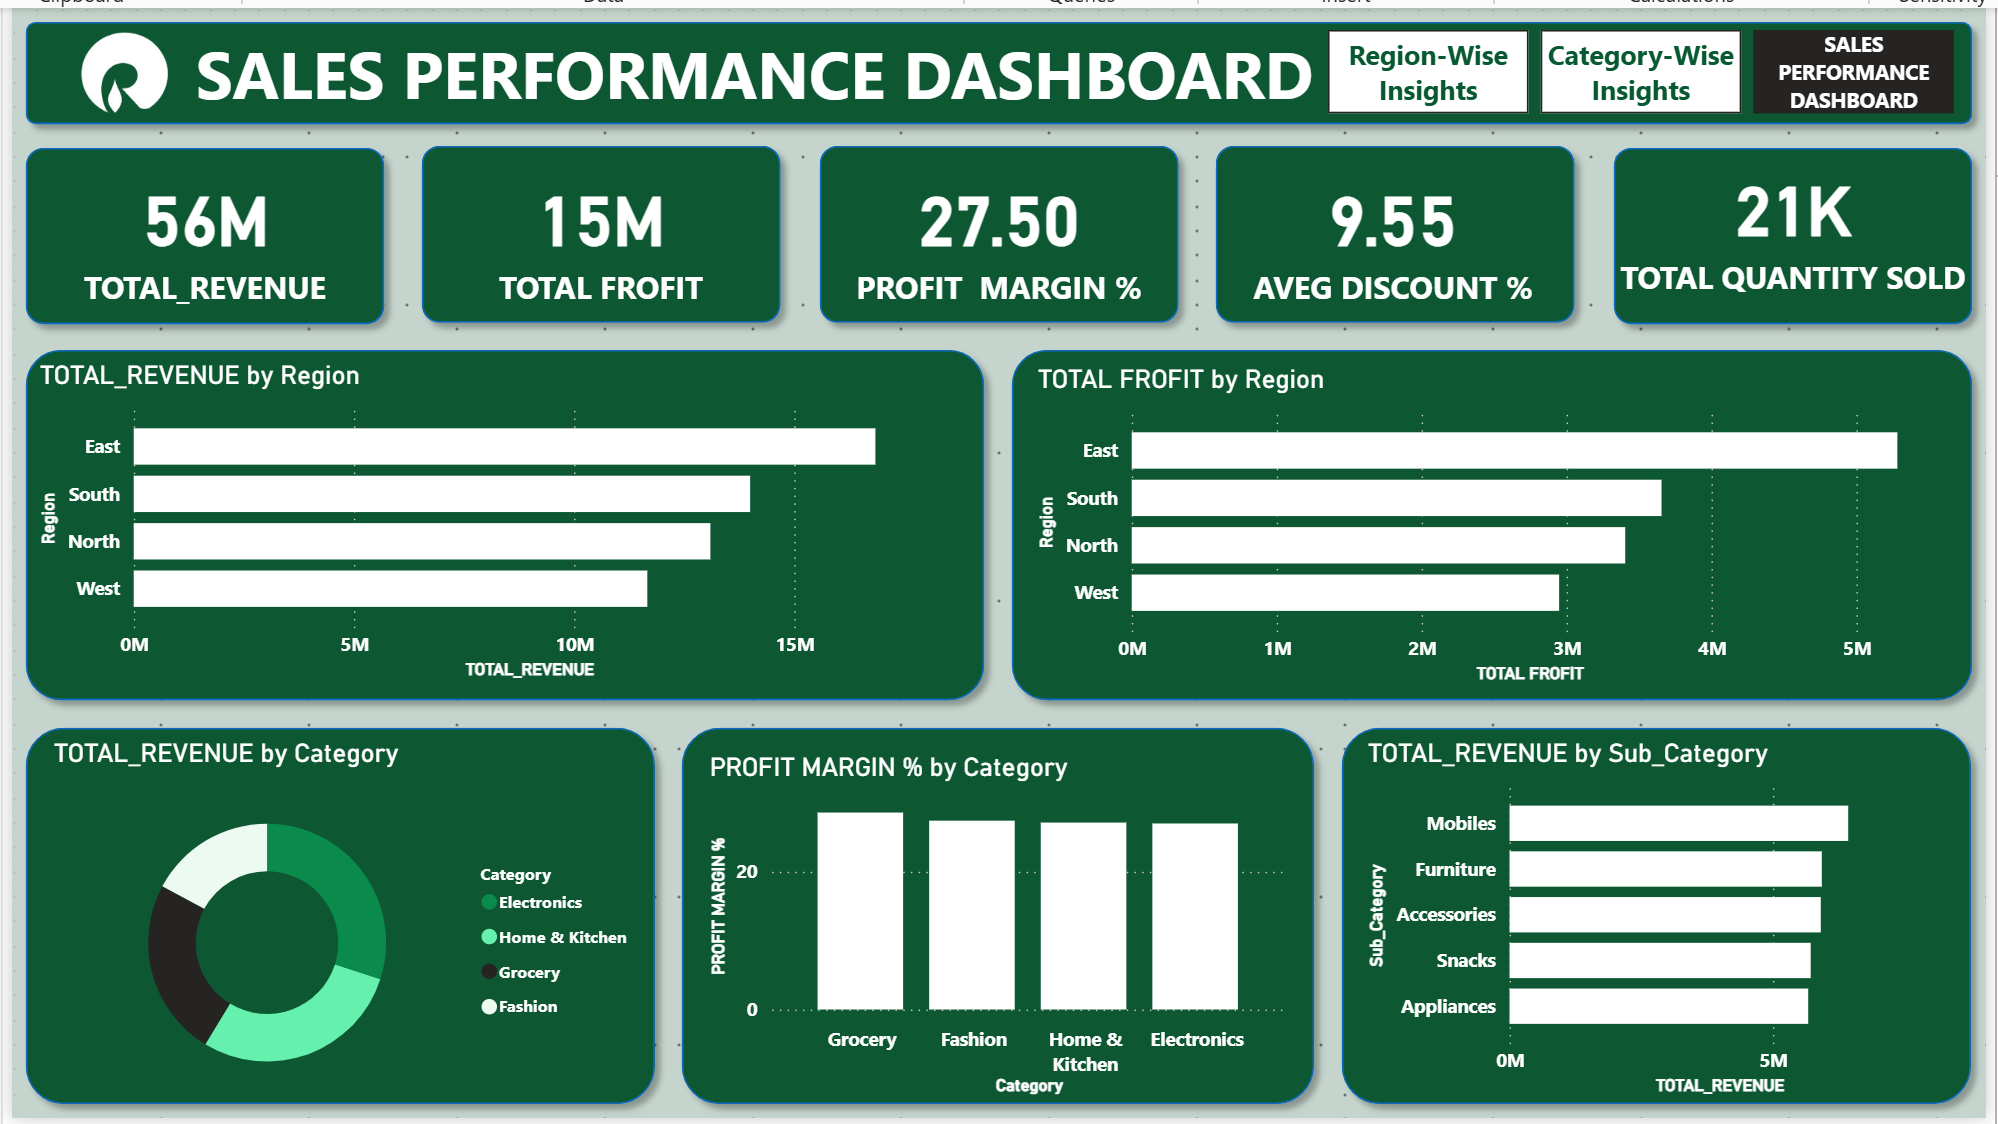

The dashboard page shown, as its layout file describes it:
{"tool":"powerbi","page":{"name":"SALES PERFORMANCE DASHBOARD ","canvas":[1280,720],"ordinal":2},"visuals":[{"type":"shape","box":[0,212.8,639.6,245.2],"z":0},{"type":"shape","box":[0,0,1280.4,84.3],"z":1000},{"type":"textbox","box":[114.2,7.8,739.5,76.5],"z":2000},{"type":"shape","box":[0,81.1,250.4,132.3],"z":3000},{"type":"shape","box":[256.3,81,250.5,132.6],"z":4000},{"type":"shape","box":[514.7,80.5,250.5,132.6],"z":5000},{"type":"shape","box":[771.6,80.5,250.5,132.6],"z":6000},{"type":"shape","box":[1030.1,81.1,250.4,132.3],"z":7000},{"type":"card","fields":{"Values":["Sales_Data.TOTAL_REVENUE"]},"box":[0,93.4,250.4,107.7],"z":8000},{"type":"card","fields":{"Values":["Sales_Data.TOTAL FROFIT"]},"box":[256.9,93.4,250.4,107.7],"z":9000},{"type":"card","fields":{"Values":["Sales_Data.PROFIT  MARGIN %"]},"box":[515,93.4,250.4,107.7],"z":10000},{"type":"card","fields":{"Values":["Sales_Data.AVEG DISCOUNT %"]},"box":[770.6,93.4,250.4,107.7],"z":11000},{"type":"card","fields":{"Values":["Sales_Data.TOTAL QUANTITY SOLD"]},"box":[1030.1,80.4,250.4,120.6],"z":12000},{"type":"shape","box":[639.6,212.8,640.9,245.2],"z":13000},{"type":"barChart","fields":{"Y":["Sales_Data.TOTAL_REVENUE"],"Category":["Sales_Data.Region"]},"box":[13,228.3,598.1,211.5],"z":14000},{"type":"barChart","fields":{"Category":["Sales_Data.Region"],"Y":["Sales_Data.TOTAL FROFIT"]},"box":[660.3,230.9,598.1,211.5],"z":15000},{"type":"shape","box":[0,458,426,262],"z":16000},{"type":"shape","box":[426,458,428,262],"z":17000},{"type":"shape","box":[854,458,426,262],"z":18000},{"type":"donutChart","fields":{"Y":["Sales_Data.TOTAL_REVENUE"],"Category":["Sales_Data.Category"]},"box":[22.1,473.5,391.8,246.5],"z":19000},{"type":"image","box":[0,0,146.6,84.3],"z":20000},{"type":"columnChart","fields":{"Category":["Sales_Data.Category"],"Y":["Sales_Data.PROFIT  MARGIN %"]},"box":[447.6,482.6,384,227],"z":21000},{"type":"barChart","fields":{"Y":["Sales_Data.TOTAL_REVENUE"],"Category":["Sales_Data.Sub_Category"]},"box":[874.4,473.5,385.3,236.1],"z":22000},{"type":"pageNavigator","box":[853.6,14.3,406.1,54.5],"z":23000}]}

Visuals, with their boxes on the page's 1280x720 design canvas (x1, y1, x2, y2). These are canvas units, not pixel positions in the 1998x1124 screenshot, which may show the page scaled, cropped or inside an application window:
shape: <region>0, 213, 640, 458</region>
shape: <region>0, 0, 1280, 84</region>
textbox: <region>114, 8, 854, 84</region>
shape: <region>0, 81, 250, 213</region>
shape: <region>256, 81, 507, 214</region>
shape: <region>515, 80, 765, 213</region>
shape: <region>772, 80, 1022, 213</region>
shape: <region>1030, 81, 1280, 213</region>
card - Sales_Data.TOTAL_REVENUE: <region>0, 93, 250, 201</region>
card - Sales_Data.TOTAL FROFIT: <region>257, 93, 507, 201</region>
card - Sales_Data.PROFIT  MARGIN %: <region>515, 93, 765, 201</region>
card - Sales_Data.AVEG DISCOUNT %: <region>771, 93, 1021, 201</region>
card - Sales_Data.TOTAL QUANTITY SOLD: <region>1030, 80, 1280, 201</region>
shape: <region>640, 213, 1280, 458</region>
barChart - Sales_Data.TOTAL_REVENUE x Sales_Data.Region: <region>13, 228, 611, 440</region>
barChart - Sales_Data.Region x Sales_Data.TOTAL FROFIT: <region>660, 231, 1258, 442</region>
shape: <region>0, 458, 426, 720</region>
shape: <region>426, 458, 854, 720</region>
shape: <region>854, 458, 1280, 720</region>
donutChart - Sales_Data.TOTAL_REVENUE x Sales_Data.Category: <region>22, 474, 414, 720</region>
image: <region>0, 0, 147, 84</region>
columnChart - Sales_Data.Category x Sales_Data.PROFIT  MARGIN %: <region>448, 483, 832, 710</region>
barChart - Sales_Data.TOTAL_REVENUE x Sales_Data.Sub_Category: <region>874, 474, 1260, 710</region>
pageNavigator: <region>854, 14, 1260, 69</region>
